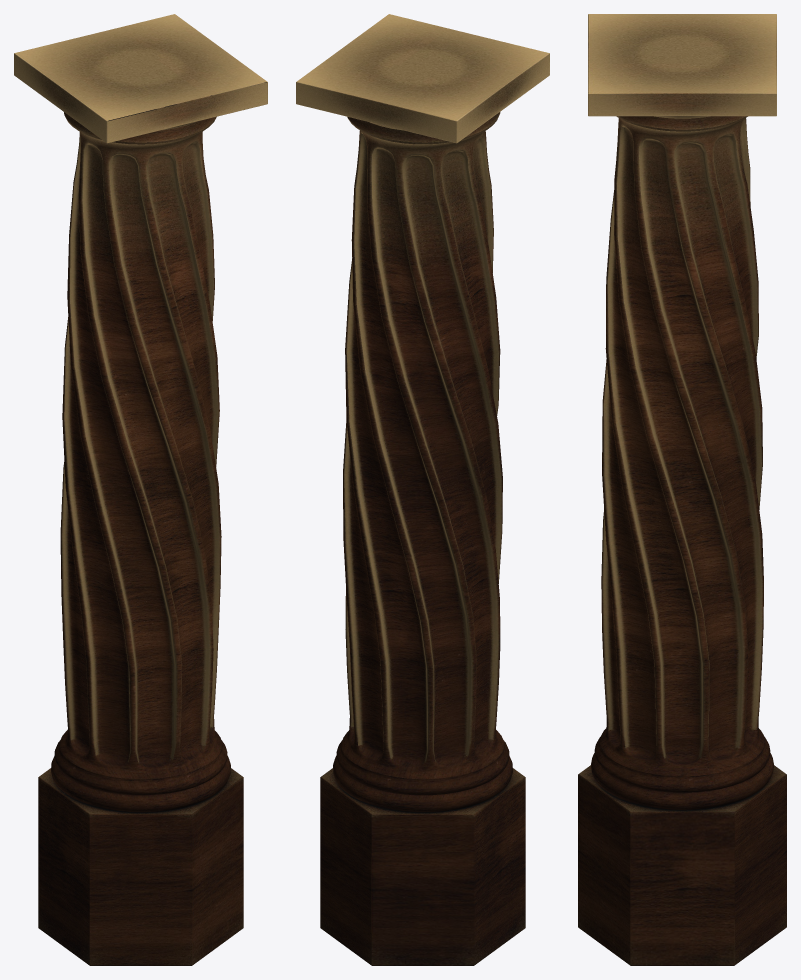
The model's file is column_01.glb.
3 renders of one model, left to right at view 1: azimuth 30°, elevation 25°; view 2: azimuth 150°, elevation 25°; view 3: azimuth 270°, elevation 25°, orthographic.
Parts seen in each view (by area): view 1: InteriorColumn_0; view 2: InteriorColumn_0; view 3: InteriorColumn_0.
Part boxes in pixels (x1=…): InteriorColumn_0: x1=14, y1=14, x2=267, y2=965; InteriorColumn_0: x1=296, y1=14, x2=549, y2=965; InteriorColumn_0: x1=578, y1=14, x2=786, y2=965.
Size of the model in its own units: 0.5882 by 3 by 0.6498.
1 material, 1 textured.
